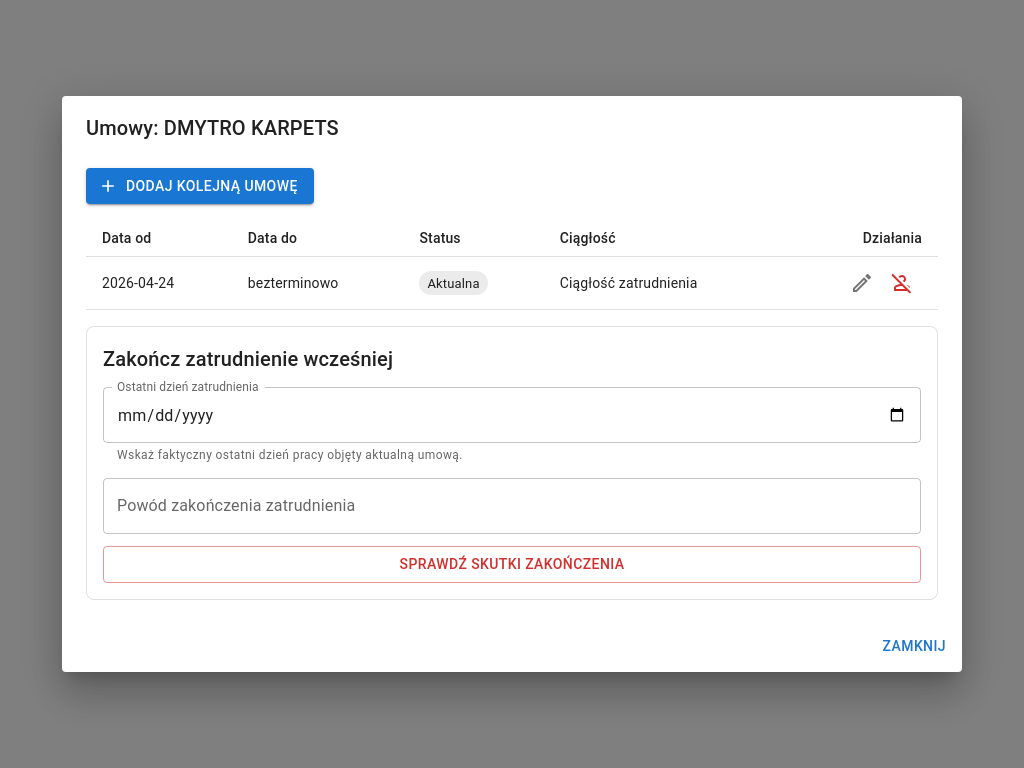
Scenario: EmployeeContractsDialog canonical contract session › edits an open-ended legacy contract and adds its continuation without reopening
The width and height of the screenshot is (1024, 768).
Click the button named "Edytuj umowę".
click(862, 283)  # box [842,263,882,303]
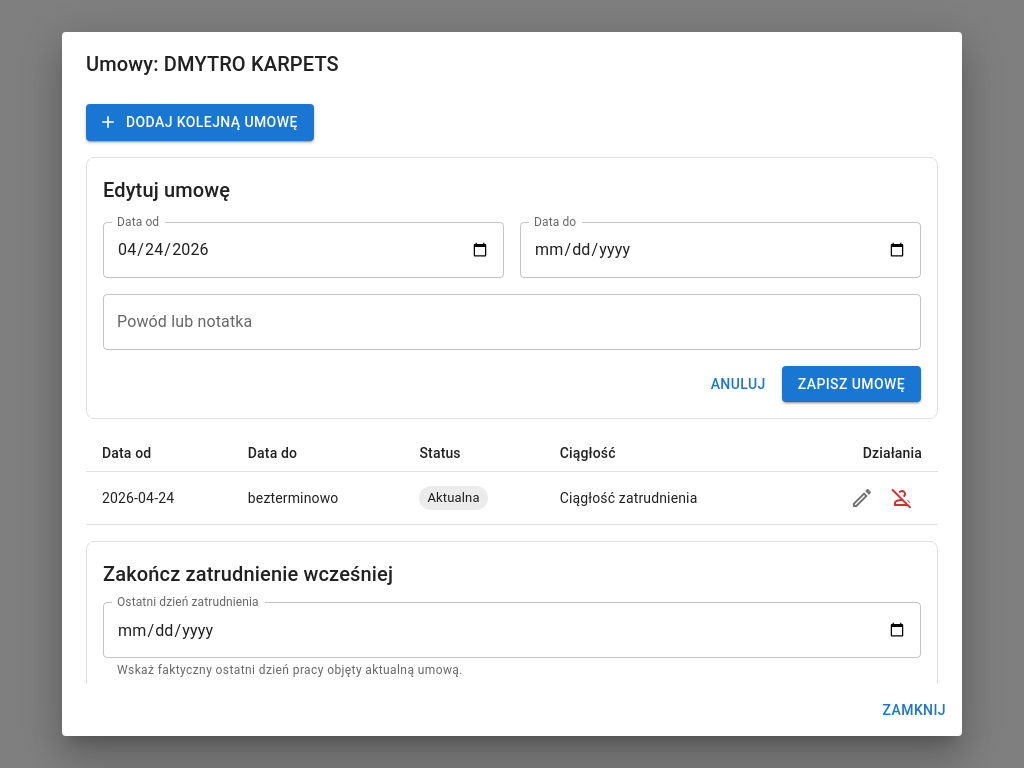
Type "2026-05-31" into the date field labelled "Data do".
click(720, 250); type("2026-05-31")  # box [520,222,921,278]
Click the button "Zapisz umowę".
click(851, 384)  # box [782,366,921,402]
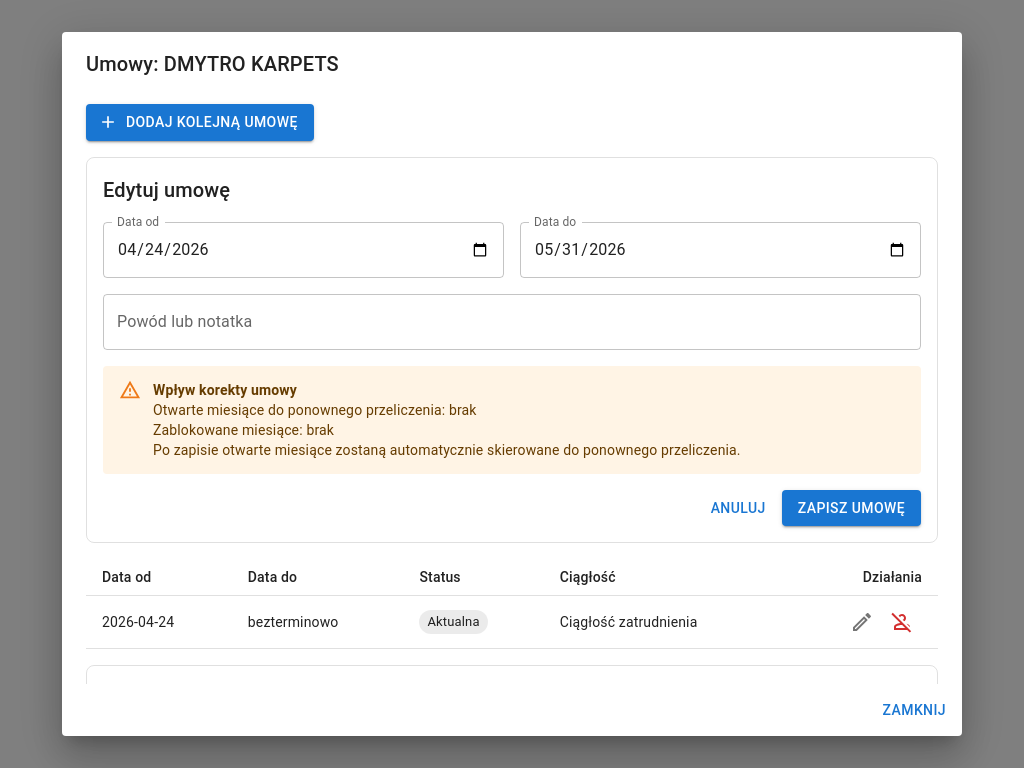
Now the text "Wpływ korekty umowy" is shown, box [153,382,297,398]
Click the button "Zapisz umowę".
click(851, 508)  # box [782,490,921,526]
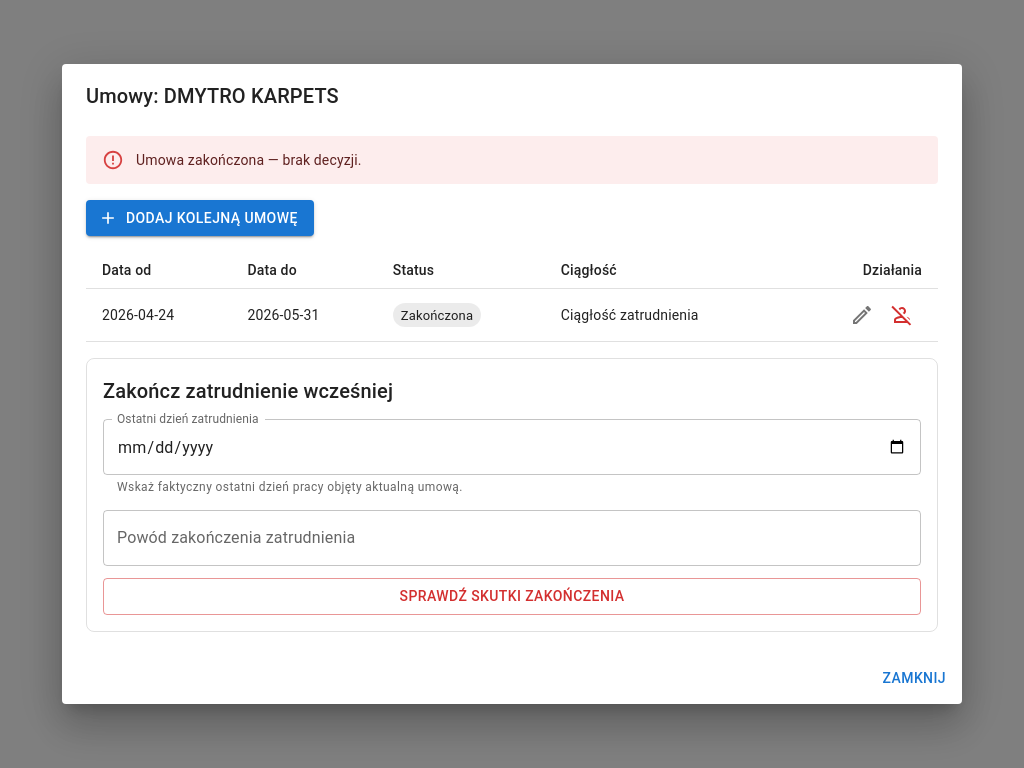
Now the text "Umowa zakończona — brak decyzji." is shown, box [136,152,362,168]
Click the button "Dodaj kolejną umowę".
click(200, 218)  # box [86,200,314,236]
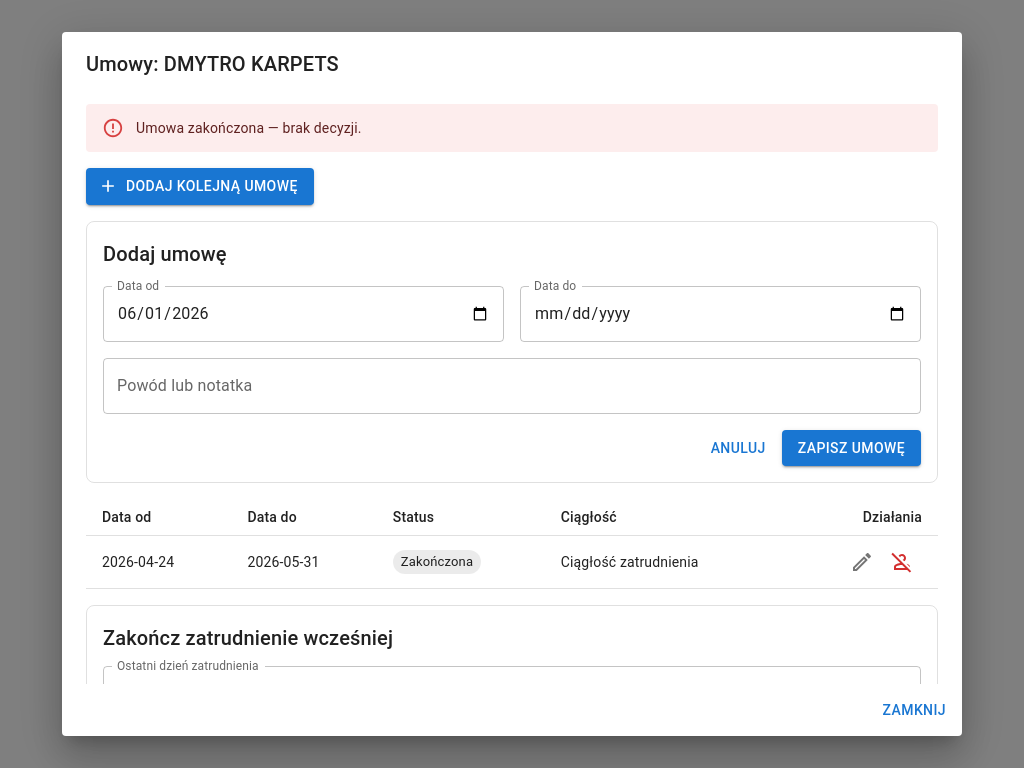
Now the date field labelled "Data od" holds "2026-06-01", box [103,286,504,342]
Type "2099-08-31" into the date field labelled "Data do".
click(720, 314); type("2099-08-31")  # box [520,286,921,342]
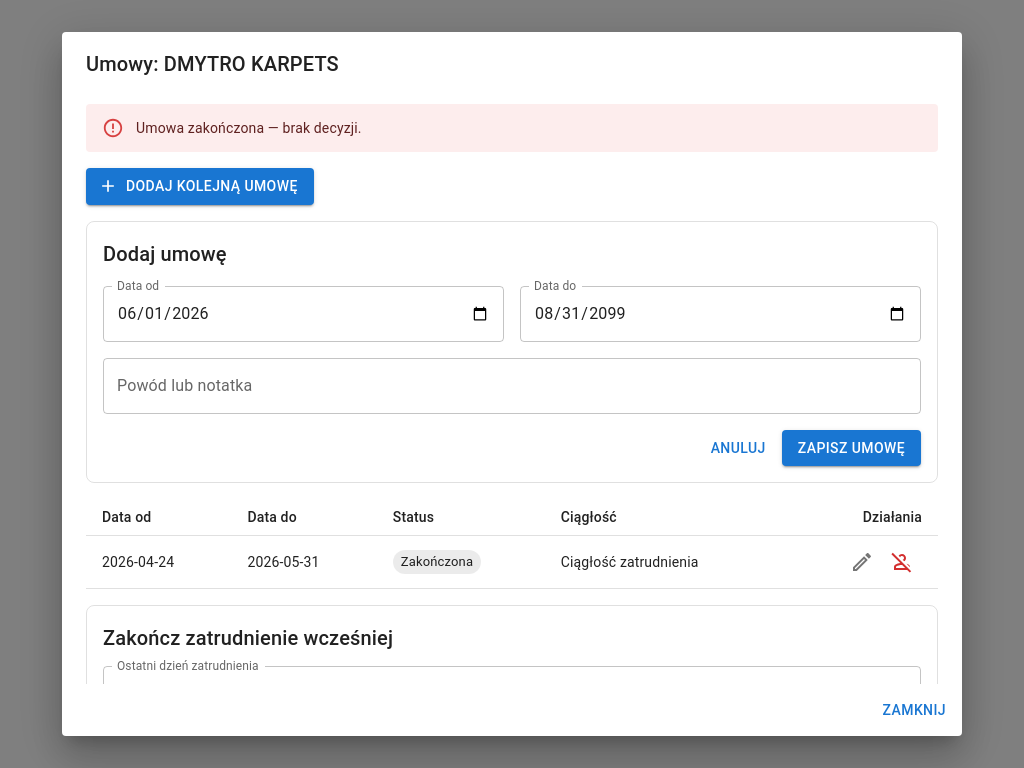
Click the button "Zapisz umowę".
click(851, 448)  # box [782,430,921,466]
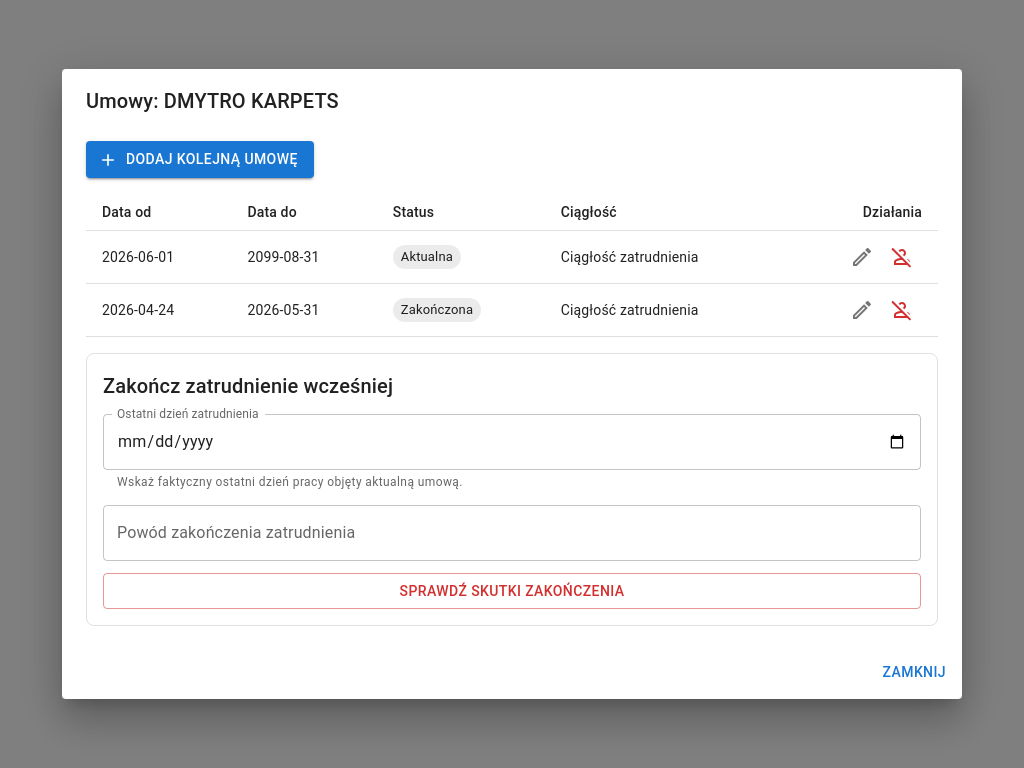
Now the text "2099-08-31" is shown, box [231,230,377,283]
Now the text "Ciągłość zatrudnienia" is shown 2 times, box [545,230,782,283]; [545,283,782,336]
Now the text "Umowa zakończona — brak decyzji." is gone
